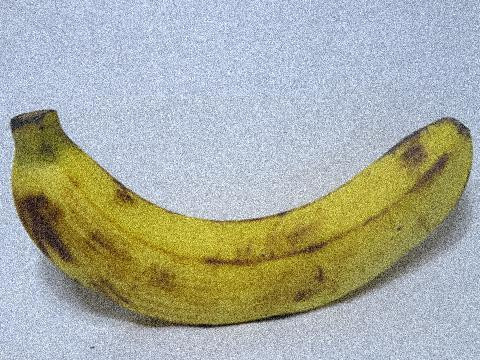ripe: (6, 93, 479, 342)
